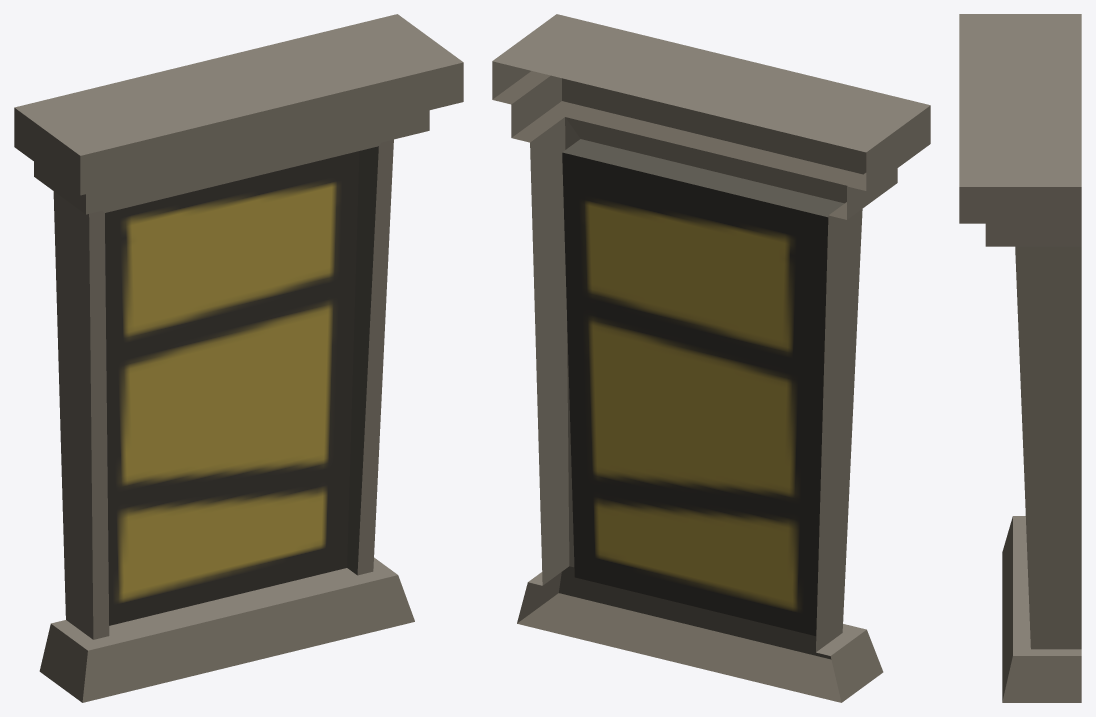
The model's file is Window_A09.fbx.
3 renders of one model, left to right at view 1: azimuth 30°, elevation 25°; view 2: azimuth 150°, elevation 25°; view 3: azimuth 270°, elevation 25°, orthographic. The views are drawn at different scales.
Parts seen in each view (by area): view 1: Window_A09; view 2: Window_A09; view 3: Window_A09.
Part boxes in pixels (left/top/right/bottom): Window_A09: left=14, top=14, right=463, bottom=702; Window_A09: left=492, top=14, right=930, bottom=702; Window_A09: left=959, top=14, right=1081, bottom=702.
Bounding box in the file's own units: 191 × 271 × 56.94.
